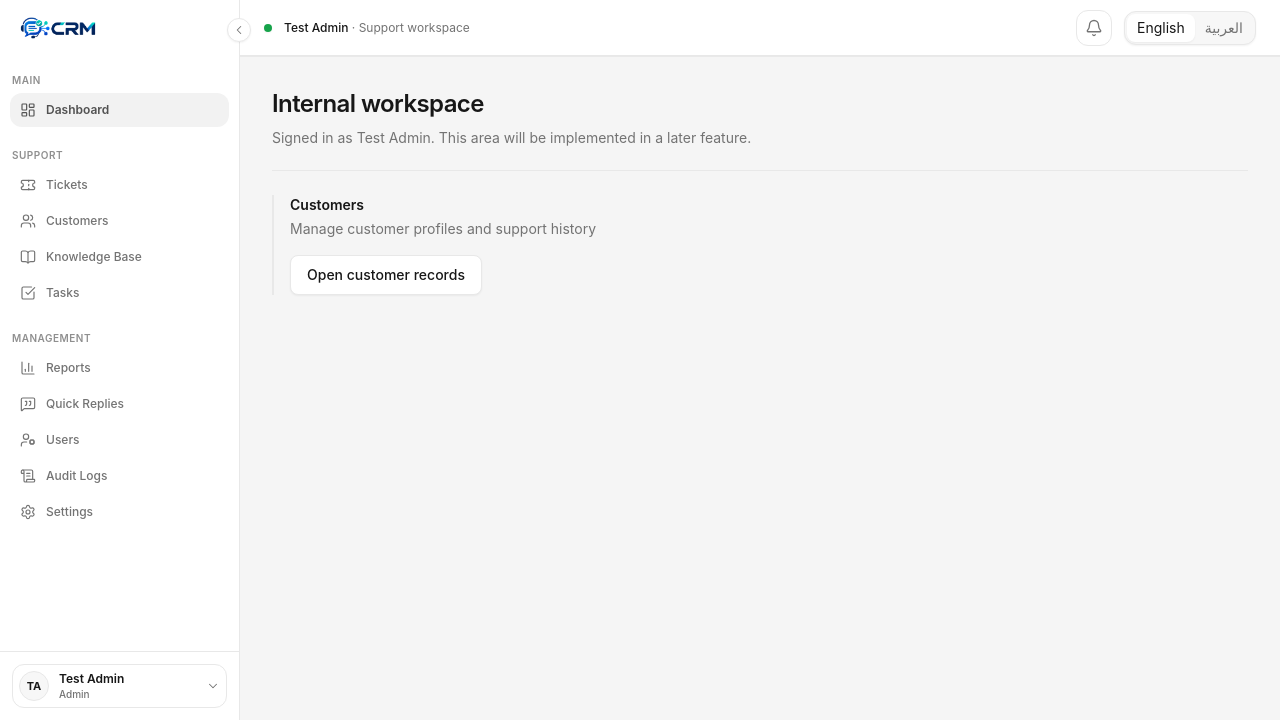
Test case: AuthProvider logout › keeps the user on the login page after clicking logout
This screenshot has width=1280, height=720.
Click the button "TA Test Admin admin" at (120, 686), box [12,664,227,708]
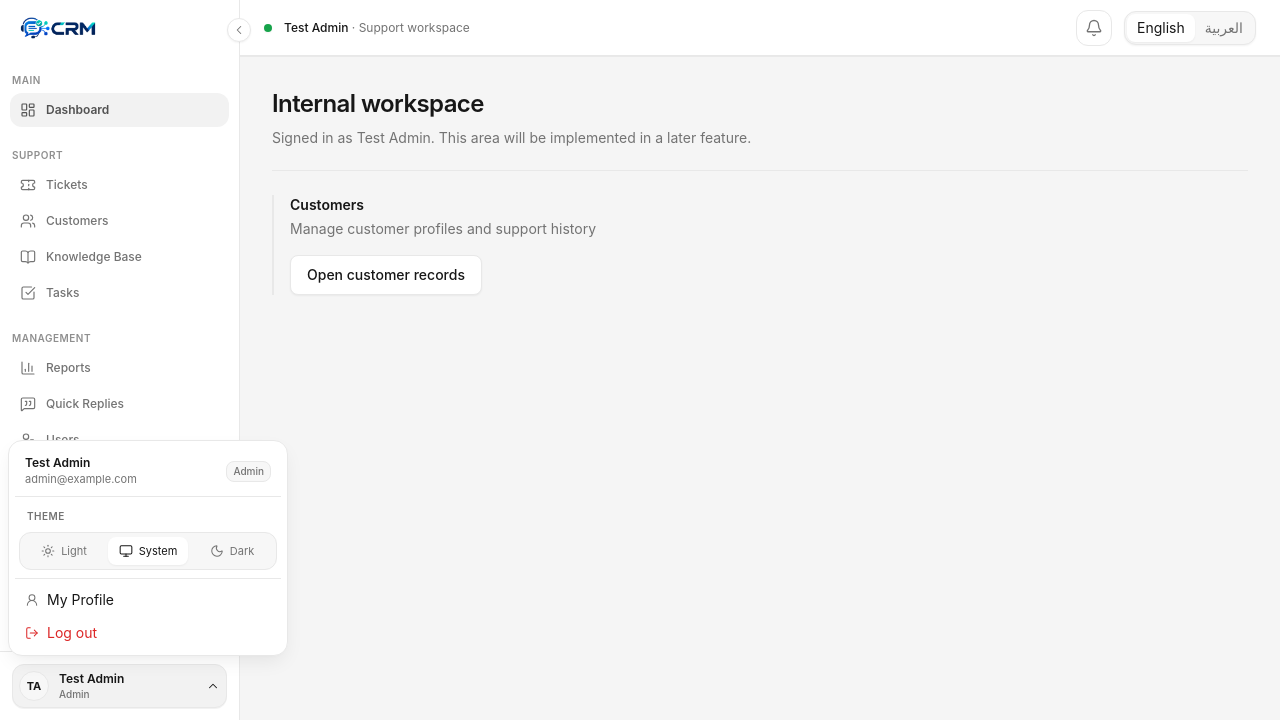
Click the menu item "Log out" at (72, 632), box [15,616,281,649]
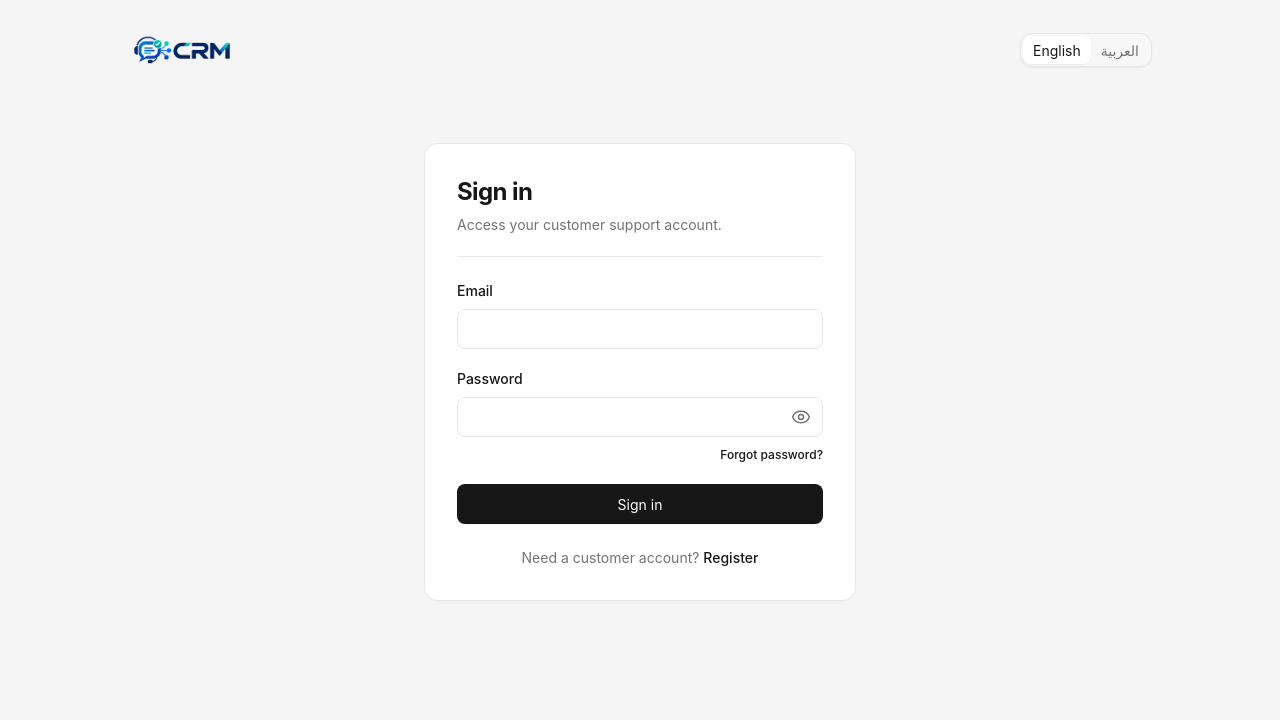
Result: the heading "Sign in" is shown at [457,177,532,206]
